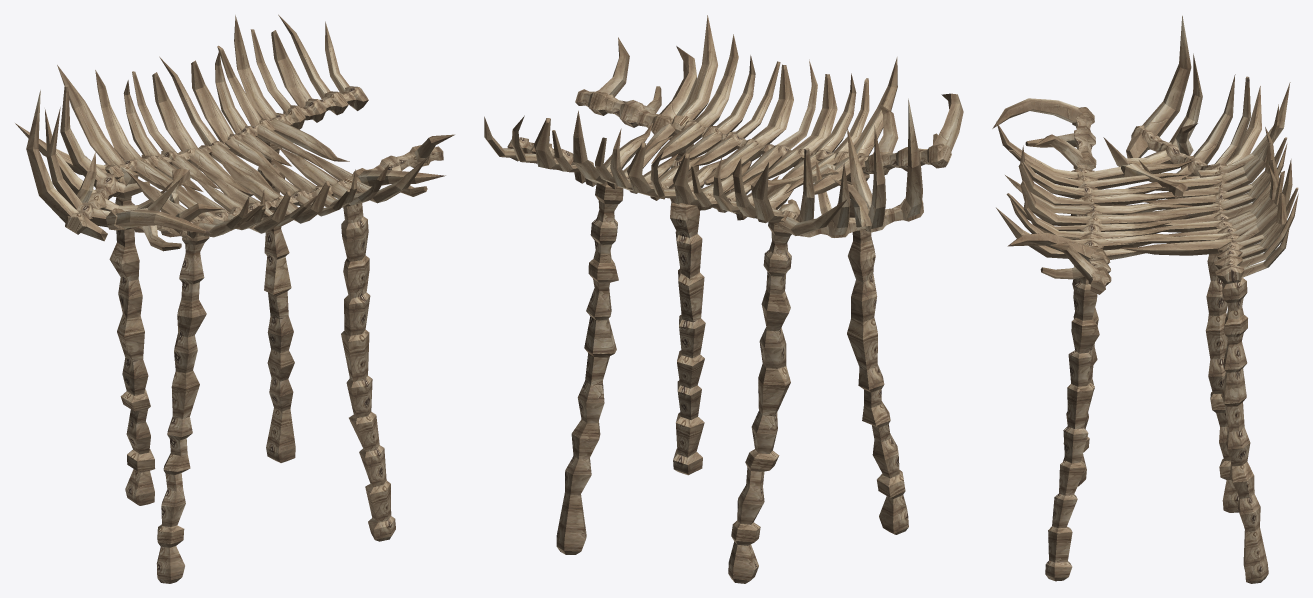
Rendered from Item_5007_gutou_gulu.FBX.
3 renders of one model, left to right at view 1: azimuth 30°, elevation 25°; view 2: azimuth 150°, elevation 25°; view 3: azimuth 270°, elevation 25°, orthographic. The views are drawn at different scales.
Parts seen in each view (by area): view 1: Item_5007_gutou_gulu; view 2: Item_5007_gutou_gulu; view 3: Item_5007_gutou_gulu.
Boxes of the visible parts, box(x1,y1,x2,y2) form: Item_5007_gutou_gulu: box(15, 14, 454, 583); Item_5007_gutou_gulu: box(484, 15, 963, 583); Item_5007_gutou_gulu: box(992, 15, 1298, 583).
Size of the model in its own units: 785 by 958 by 606.
